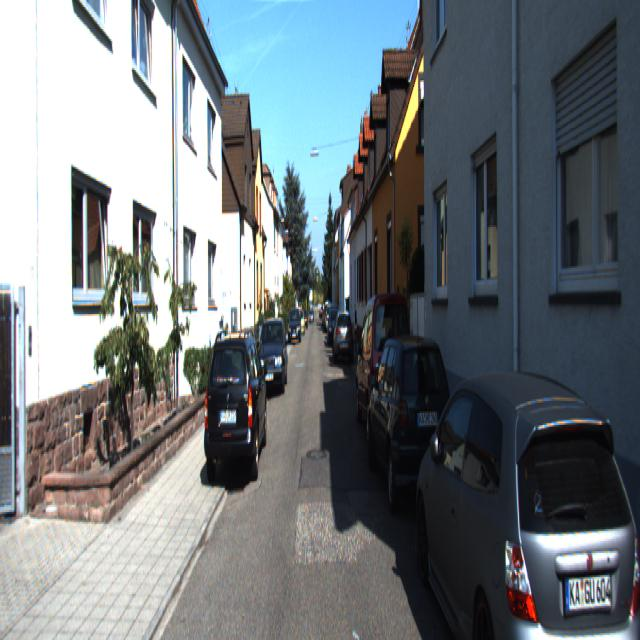Car: (413, 348, 639, 638), (367, 321, 456, 531), (205, 321, 268, 485), (355, 284, 411, 452), (256, 316, 287, 399), (334, 309, 354, 365), (288, 308, 302, 346)
